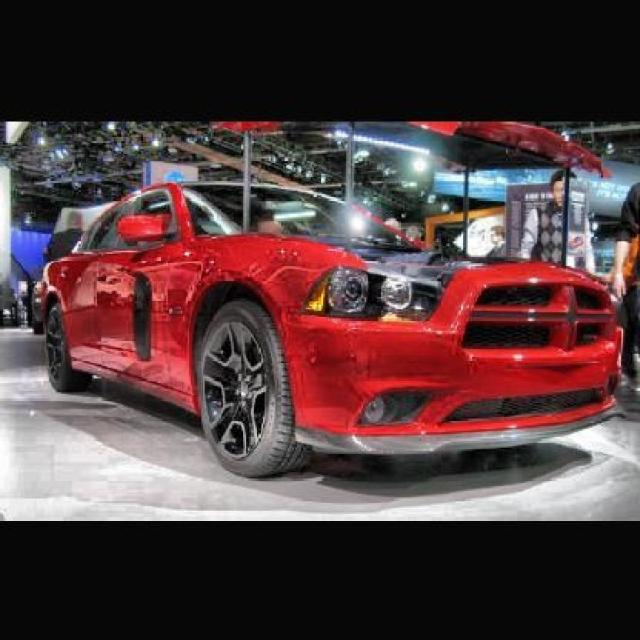red: (38, 163, 640, 451)
